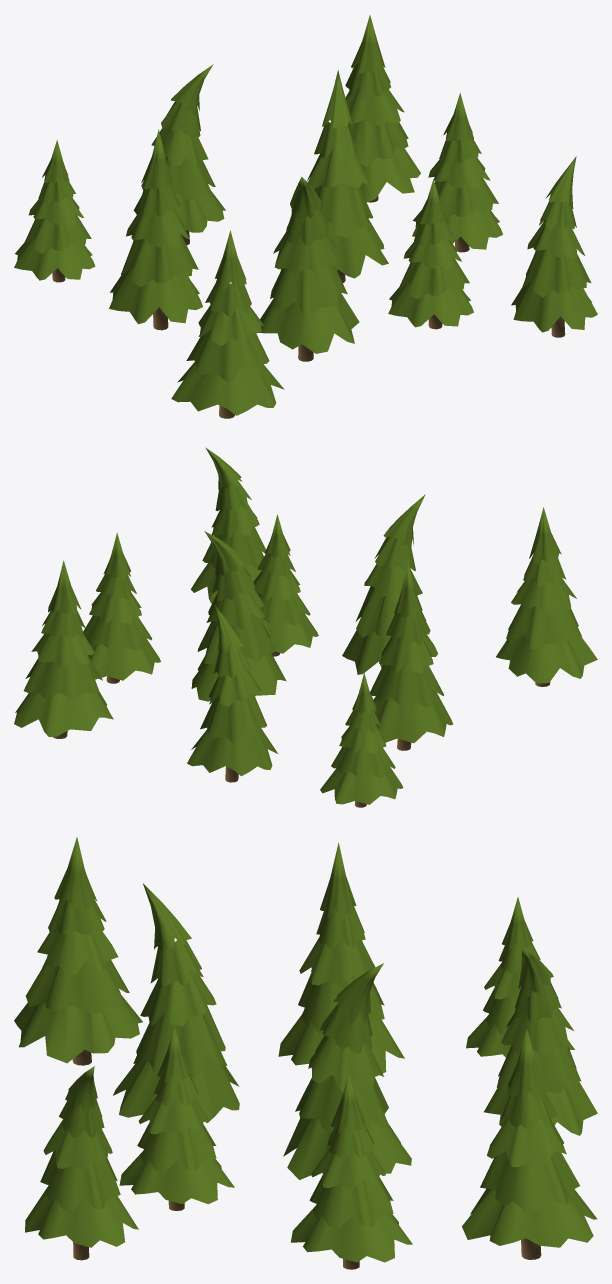
File: pine-trees.glb
3 views of the same model, one above another, from view 1: azimuth 30°, elevation 25°; view 2: azimuth 150°, elevation 25°; view 3: azimuth 270°, elevation 25° (orthographic). The views are drawn at different scales.
Parts seen in each view (by area): view 1: Resource_PineTree_Group; view 2: Resource_PineTree_Group; view 3: Resource_PineTree_Group.
Part boxes in pixels (<box>): Resource_PineTree_Group: <box>14,15,597,418</box>; Resource_PineTree_Group: <box>14,447,597,807</box>; Resource_PineTree_Group: <box>14,837,597,1269</box>.
Bounding box in the file's own units: 1.78 × 0.7882 × 1.73.
